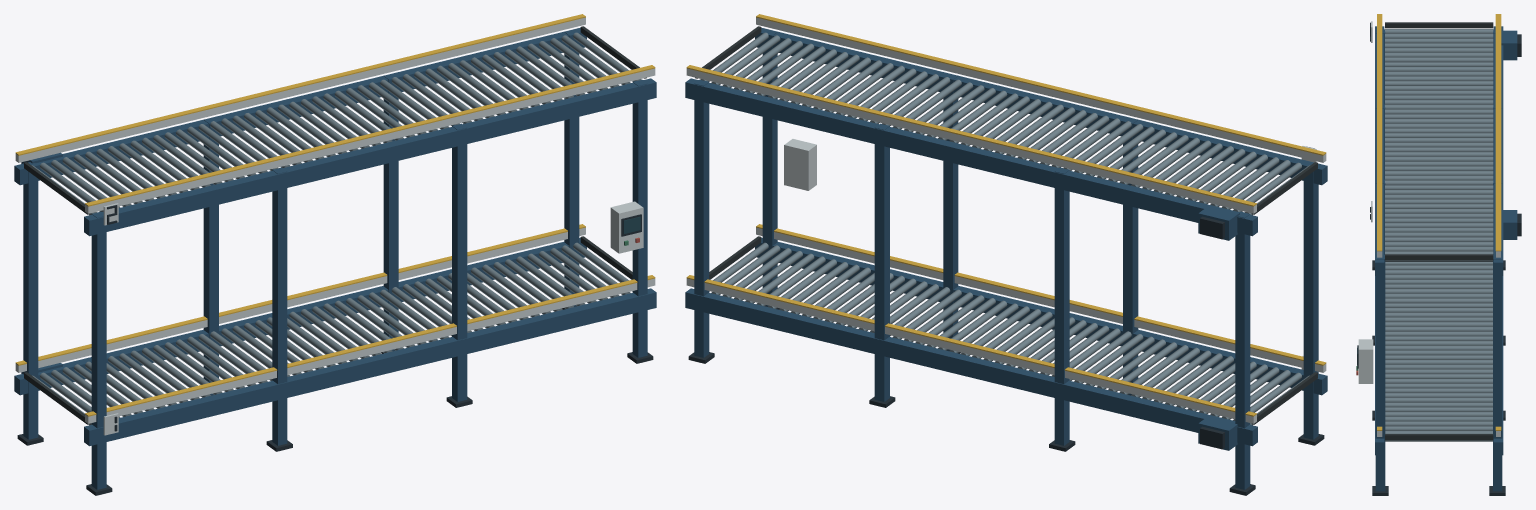
File: double-deck-conveyor.glb
The picture shows the model from 3 angles, left to right: view 1: azimuth 30°, elevation 25°; view 2: azimuth 150°, elevation 25°; view 3: azimuth 270°, elevation 25°; orthographic projection. The views are drawn at different scales.
Parts seen in each view (by area): view 1: conveyor-level-2-surface (×2), conveyor-level-1-surface (×2), conveyor-frame-machineFrame, conveyor-level-2-machineFrame, conveyor-level-1-machineFrame, conveyor-level-2-warning, conveyor-level-1-warning, conveyor-control-panel-surface, conveyor-level-2-rubber, conveyor-level-1-rubber, conveyor-frame-surface; view 2: conveyor-level-2-surface (×2), conveyor-level-1-surface (×2), conveyor-frame-machineFrame, conveyor-level-2-machineFrame, conveyor-level-1-machineFrame, conveyor-level-2-warning, conveyor-level-1-warning, conveyor-control-panel-surface, conveyor-level-2-rubber, conveyor-level-1-rubber, conveyor-frame-surface; view 3: conveyor-level-2-surface, conveyor-level-1-surface, conveyor-frame-machineFrame, conveyor-level-2-machineFrame, conveyor-level-2-warning, conveyor-level-2-rubber, conveyor-level-1-machineFrame, conveyor-control-panel-surface, conveyor-level-1-rubber, conveyor-frame-surface.
Part boxes in pixels (box(x1,y1,x2,y2)): conveyor-level-2-surface (×2): box(15, 17, 655, 225); conveyor-level-1-surface (×2): box(15, 227, 655, 435); conveyor-frame-machineFrame: box(23, 29, 647, 489); conveyor-level-2-machineFrame: box(14, 27, 656, 236); conveyor-level-1-machineFrame: box(14, 237, 656, 446); conveyor-level-2-warning: box(15, 14, 655, 206); conveyor-level-1-warning: box(15, 224, 655, 416); conveyor-control-panel-surface: box(610, 201, 643, 253); conveyor-level-2-rubber: box(24, 26, 646, 214); conveyor-level-1-rubber: box(24, 236, 632, 424); conveyor-frame-surface: box(17, 306, 653, 495); conveyor-level-2-surface (×2): box(686, 17, 1326, 215); conveyor-level-1-surface (×2): box(686, 227, 1326, 425); conveyor-frame-machineFrame: box(694, 29, 1318, 489); conveyor-level-2-machineFrame: box(685, 27, 1327, 240); conveyor-level-1-machineFrame: box(685, 237, 1327, 450); conveyor-level-2-warning: box(686, 14, 1326, 206); conveyor-level-1-warning: box(686, 224, 1326, 416); conveyor-control-panel-surface: box(784, 139, 816, 190); conveyor-level-2-rubber: box(695, 26, 1317, 214); conveyor-level-1-rubber: box(709, 236, 1317, 424); conveyor-frame-surface: box(688, 306, 1324, 495); conveyor-level-2-surface: box(1385, 29, 1493, 261); conveyor-level-1-surface: box(1385, 262, 1492, 441); conveyor-frame-machineFrame: box(1375, 29, 1502, 491); conveyor-level-2-machineFrame: box(1375, 26, 1517, 275); conveyor-level-2-warning: box(1377, 14, 1501, 251); conveyor-level-2-rubber: box(1385, 22, 1493, 260); conveyor-level-1-machineFrame: box(1375, 210, 1517, 455); conveyor-control-panel-surface: box(1358, 339, 1373, 383); conveyor-level-1-rubber: box(1385, 434, 1493, 439); conveyor-frame-surface: box(1372, 260, 1505, 495).
Size of the model in its own units: 6.5 by 3.17 by 1.92.
